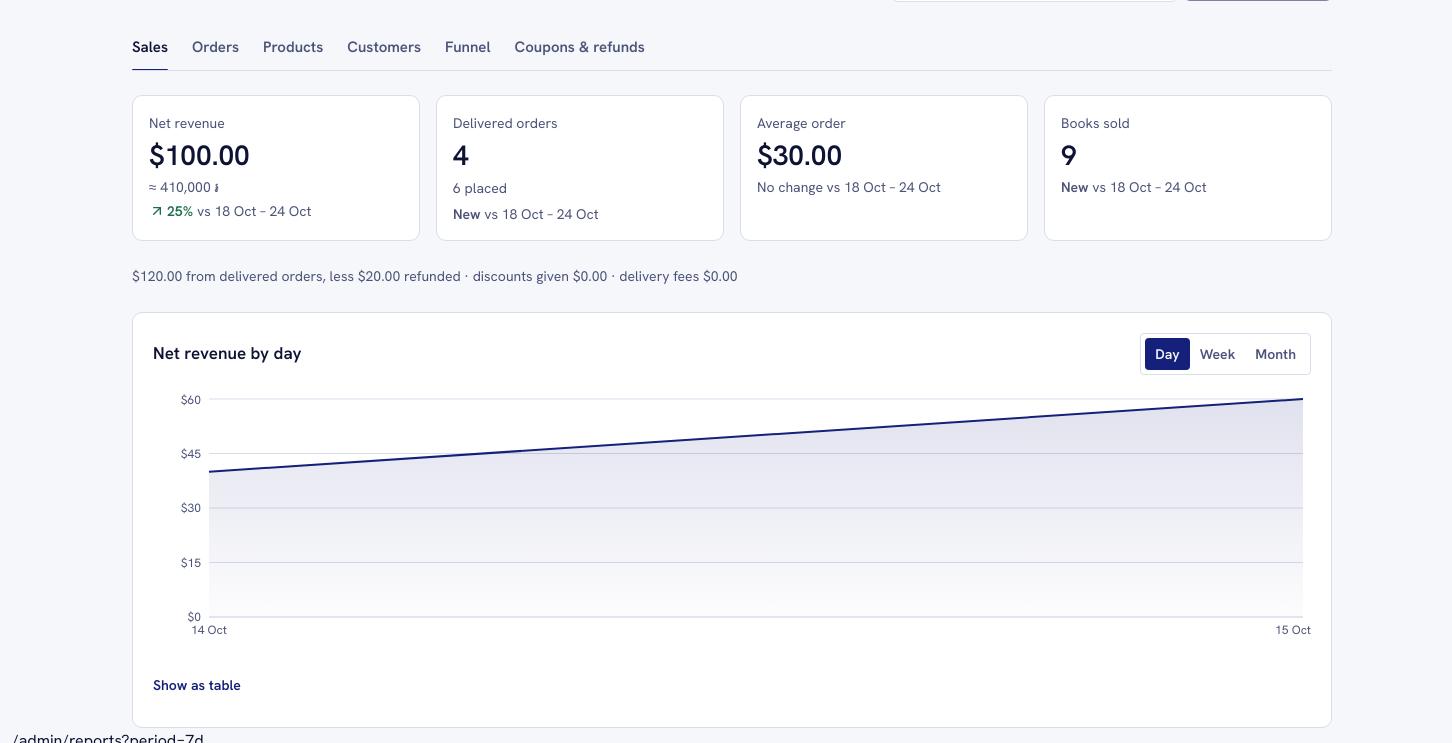
reports page › shows the sales figures for the chosen days, grouped by day, with the numbers as a table
Expected: the text "$100.00" is shown, [149,138,250,174]
Expected: the text "≈ 410,000 ៛" is shown, [149,178,219,196]
Click the radio button labelled "Week": click(1217, 354) [1190,338,1245,370]
(page scrolled)
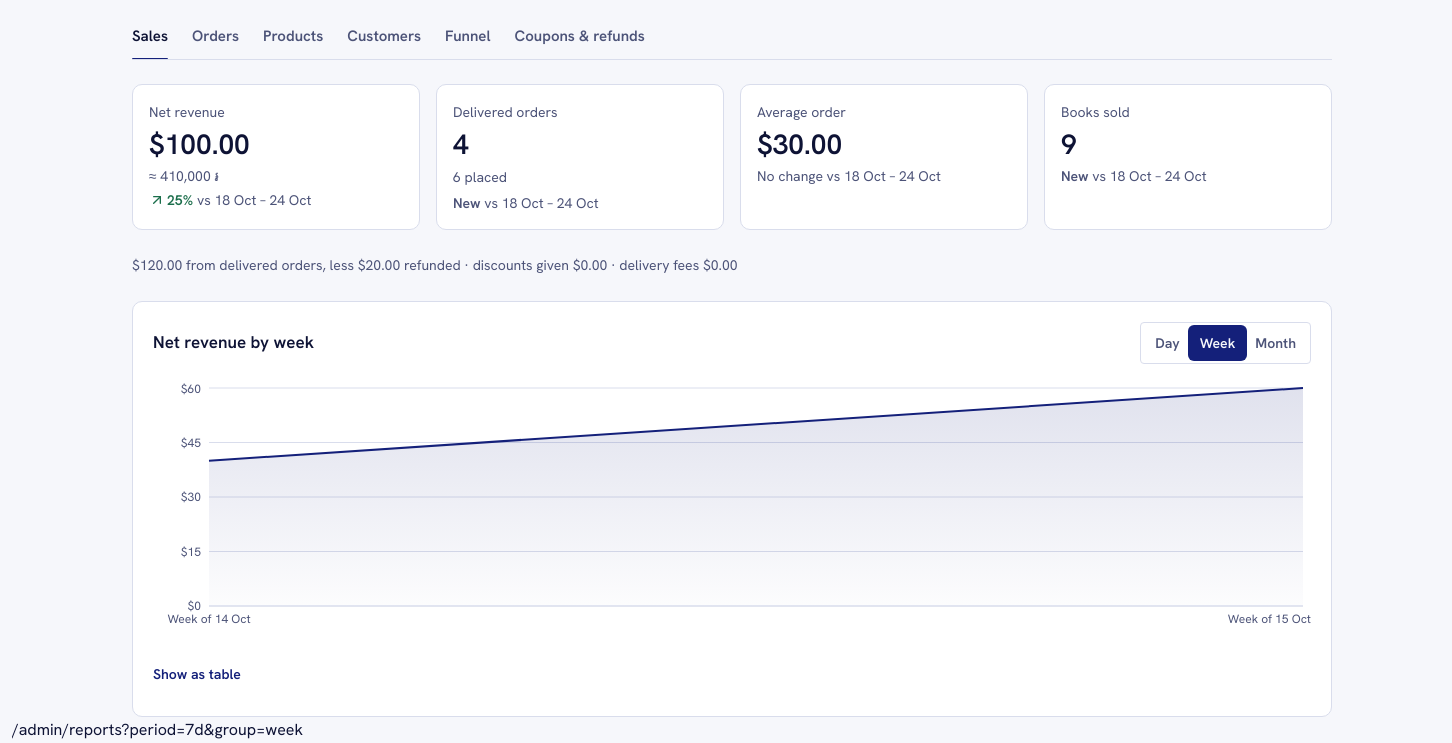
Expected: the text with test id "where" reads "/admin/reports?period=7d&group=week", [12,719,303,740]
